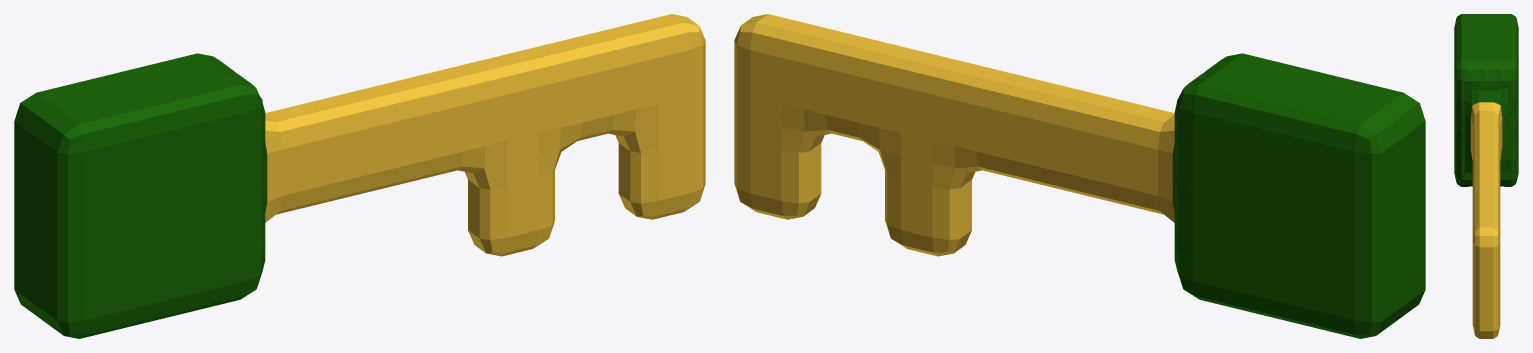
File: GreenKey.fbx
3 views of the same model, side by side, from view 1: azimuth 30°, elevation 25°; view 2: azimuth 150°, elevation 25°; view 3: azimuth 270°, elevation 25° (orthographic). The views are drawn at different scales.
Parts seen in each view (by area): view 1: Green Key; view 2: Green Key; view 3: Green Key.
Boxes of the visible parts, bbox=[...] form: Green Key: bbox=[14, 14, 705, 338]; Green Key: bbox=[734, 14, 1425, 338]; Green Key: bbox=[1454, 14, 1518, 338].
Bounding box in the file's own units: 277 × 99.88 × 39.73.
